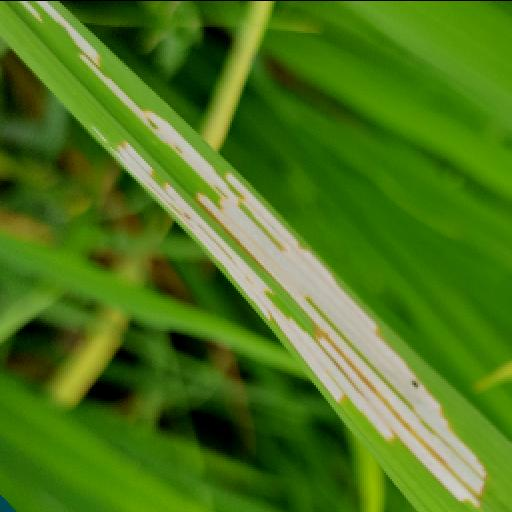Bacterial Leaf Blight: (16, 0, 506, 506)
